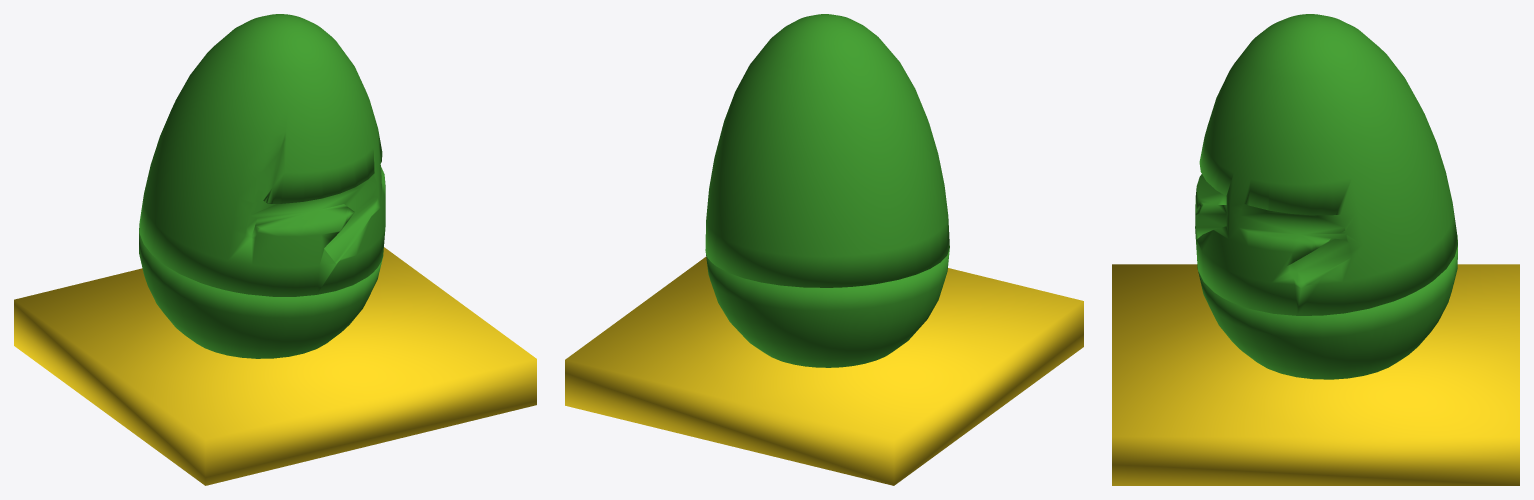
File: egg_3.glb
3 views of the same model, side by side, from view 1: azimuth 30°, elevation 25°; view 2: azimuth 150°, elevation 25°; view 3: azimuth 270°, elevation 25° (orthographic). The views are drawn at different scales.
Parts seen in each view (by area): view 1: figura, basetta; view 2: figura, basetta; view 3: figura, basetta.
Boxes of the visible parts, bbox=[...] form: figura: bbox=[139, 14, 385, 358]; basetta: bbox=[14, 247, 536, 485]; figura: bbox=[705, 14, 949, 367]; basetta: bbox=[565, 257, 1083, 485]; figura: bbox=[1195, 14, 1457, 379]; basetta: bbox=[1112, 264, 1519, 485].
Size of the model in its own units: 0.015 by 0.0154 by 0.015.
